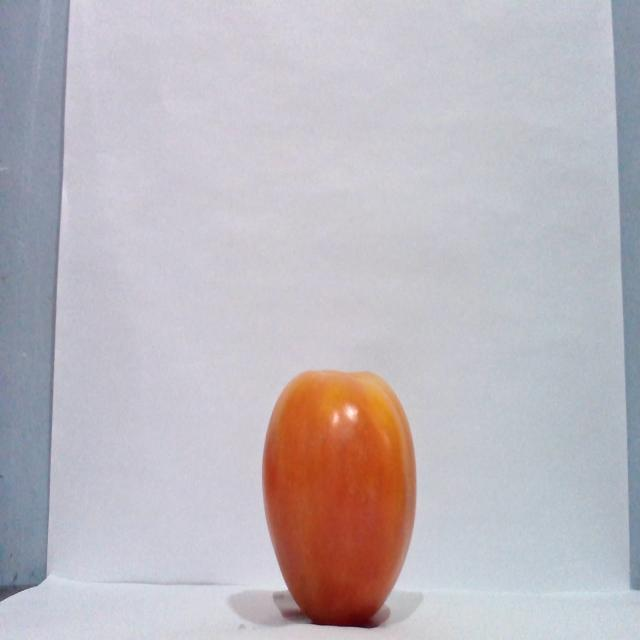Red: (260, 367, 417, 626)
